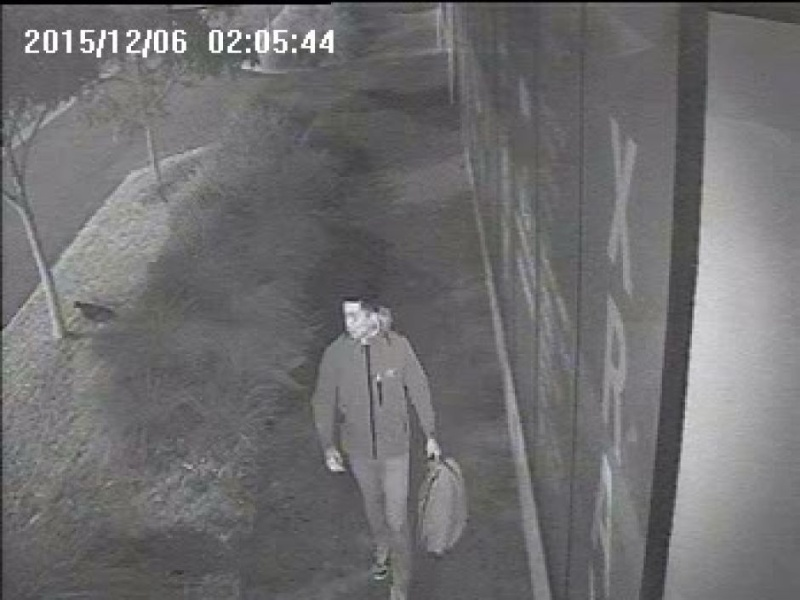person: (304, 283, 475, 600)
